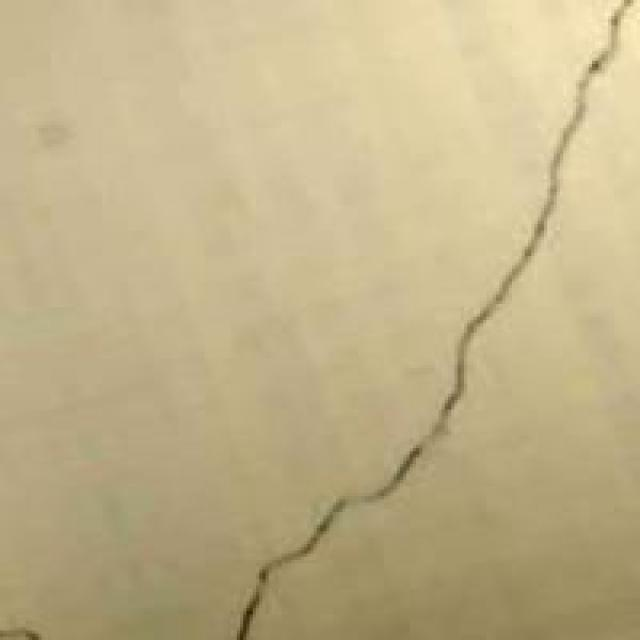crack: (230, 3, 624, 637)
